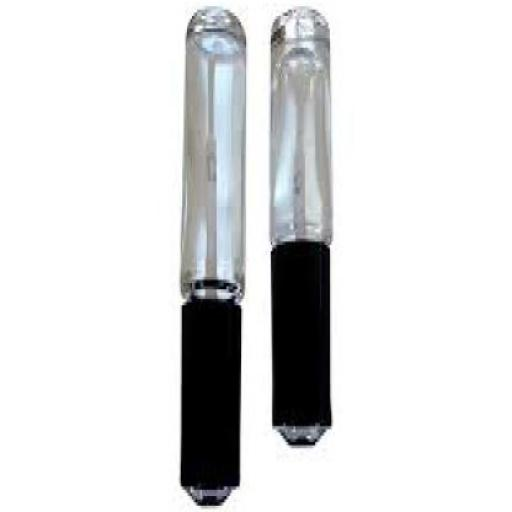glass: (182, 16, 246, 309), (273, 12, 334, 251)
plastic: (183, 299, 244, 511), (272, 244, 334, 449)
